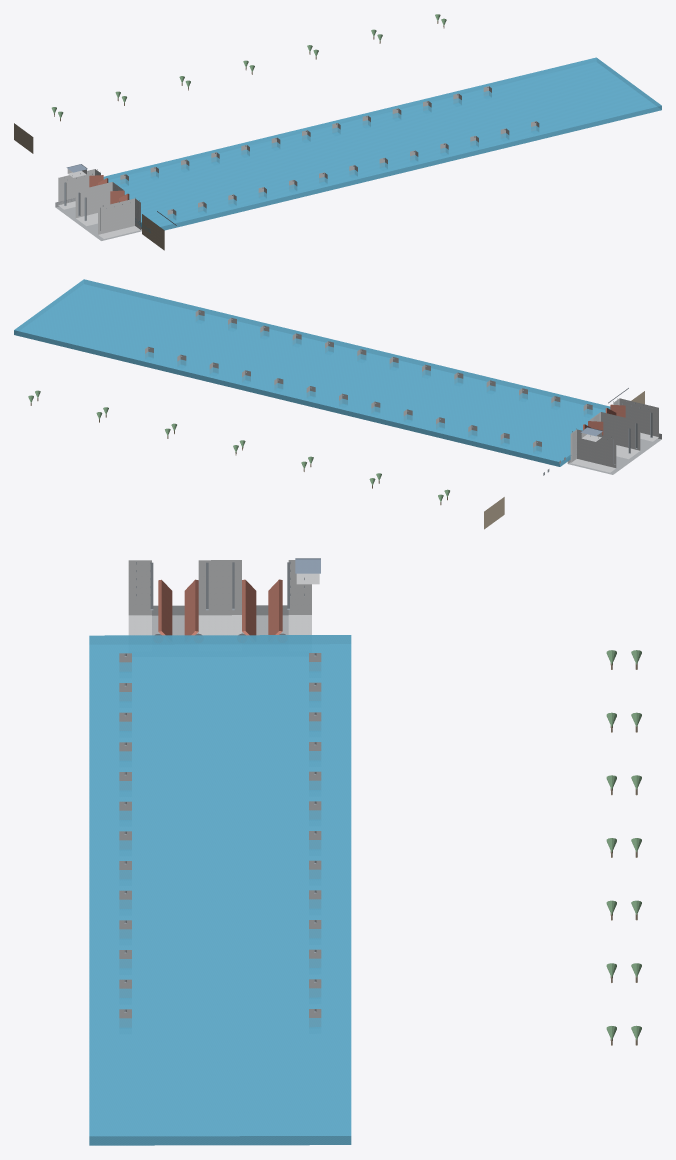
File: qishi-z6-downstream.glb
The picture shows the model from 3 angles, top to bottom: view 1: azimuth 30°, elevation 25°; view 2: azimuth 150°, elevation 25°; view 3: azimuth 270°, elevation 25°; orthographic projection. The views are drawn at different scales.
Visible parts, largest first — view 1: water_water, concreteLight_structure, concrete_structure, earth_structure, concreteDark_structure, gate_gate, tree_detail, steel_detail; view 2: water_water, concreteLight_structure, concrete_structure, concreteDark_structure, earth_structure, tree_detail, steel_detail, gate_gate; view 3: water_water, concreteLight_structure, concrete_structure, gate_gate, tree_detail, concreteDark_structure, steel_detail.
Boxes of the visible parts, x1,y1,x2,y2 form: water_water: [103, 57, 661, 232]; concreteLight_structure: [58, 169, 140, 238]; concrete_structure: [96, 86, 539, 228]; earth_structure: [14, 123, 164, 250]; concreteDark_structure: [55, 197, 141, 240]; gate_gate: [89, 175, 129, 204]; tree_detail: [51, 14, 446, 118]; steel_detail: [64, 87, 535, 231]; water_water: [14, 279, 610, 466]; concreteLight_structure: [570, 398, 658, 472]; concrete_structure: [145, 310, 617, 461]; concreteDark_structure: [567, 433, 661, 474]; earth_structure: [484, 391, 644, 529]; tree_detail: [28, 390, 449, 501]; steel_detail: [148, 310, 652, 464]; gate_gate: [583, 404, 625, 435]; water_water: [89, 635, 351, 1145]; concreteLight_structure: [128, 560, 311, 635]; concrete_structure: [119, 653, 321, 1027]; gate_gate: [158, 579, 282, 635]; tree_detail: [606, 650, 641, 1040]; concreteDark_structure: [152, 605, 288, 635]; steel_detail: [124, 561, 316, 1012].
Bounding box in the file's own units: 819 × 52.81 × 391.
11 materials, 11 textured.
